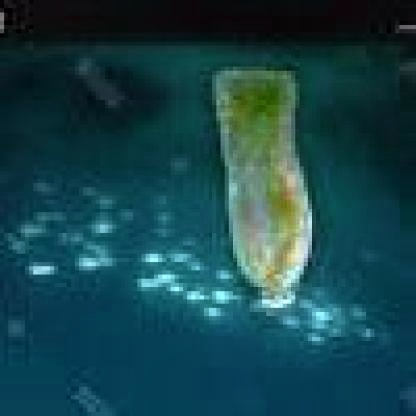pbottle: (192, 58, 324, 316)
